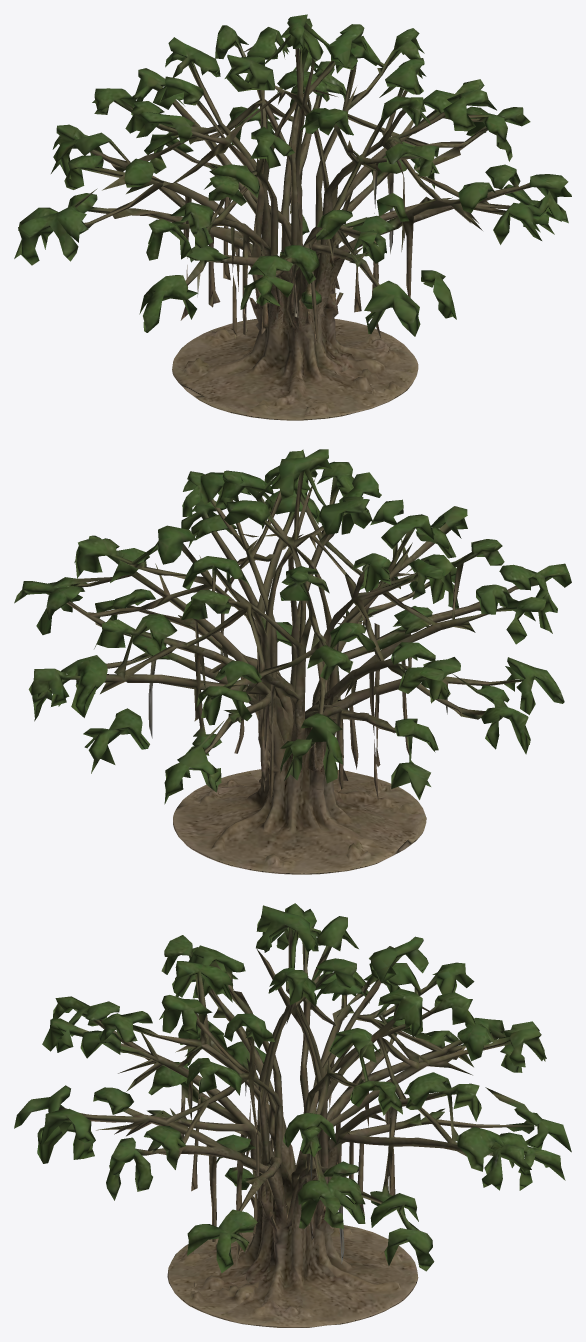
The model's file is pohon_beringin.glb.
The picture shows the model from 3 angles, top to bottom: view 1: azimuth 30°, elevation 25°; view 2: azimuth 150°, elevation 25°; view 3: azimuth 270°, elevation 25°; orthographic projection. The views are drawn at different scales.
Parts seen in each view (by area): view 1: tripo_node_bcf0f01d-92ab-40a4-a9a5-08174165dd0c; view 2: tripo_node_bcf0f01d-92ab-40a4-a9a5-08174165dd0c; view 3: tripo_node_bcf0f01d-92ab-40a4-a9a5-08174165dd0c.
Part boxes in pixels (box(x1,y1,x2,y2)): tripo_node_bcf0f01d-92ab-40a4-a9a5-08174165dd0c: box(14, 14, 571, 420); tripo_node_bcf0f01d-92ab-40a4-a9a5-08174165dd0c: box(14, 449, 571, 874); tripo_node_bcf0f01d-92ab-40a4-a9a5-08174165dd0c: box(14, 903, 571, 1327).
Size of the model in its own units: 1 by 0.6688 by 0.9308.
1 material, 1 textured.
